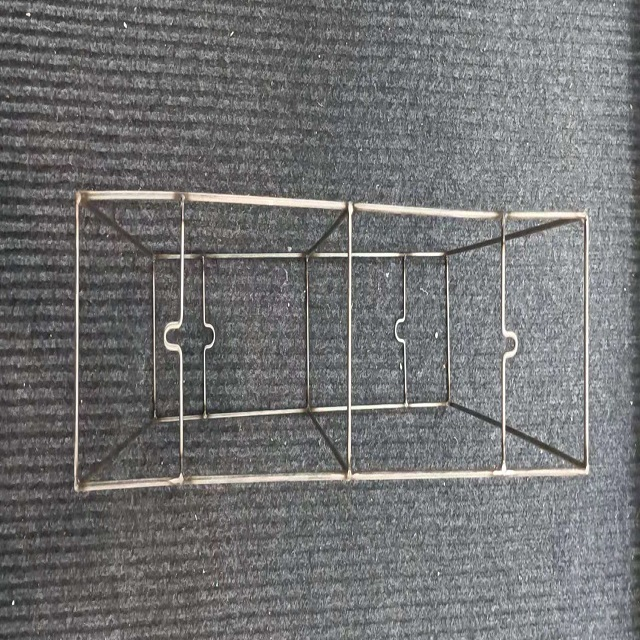curvedhole: (493, 326, 525, 364), (199, 320, 222, 361), (163, 318, 185, 358), (393, 314, 411, 346)
